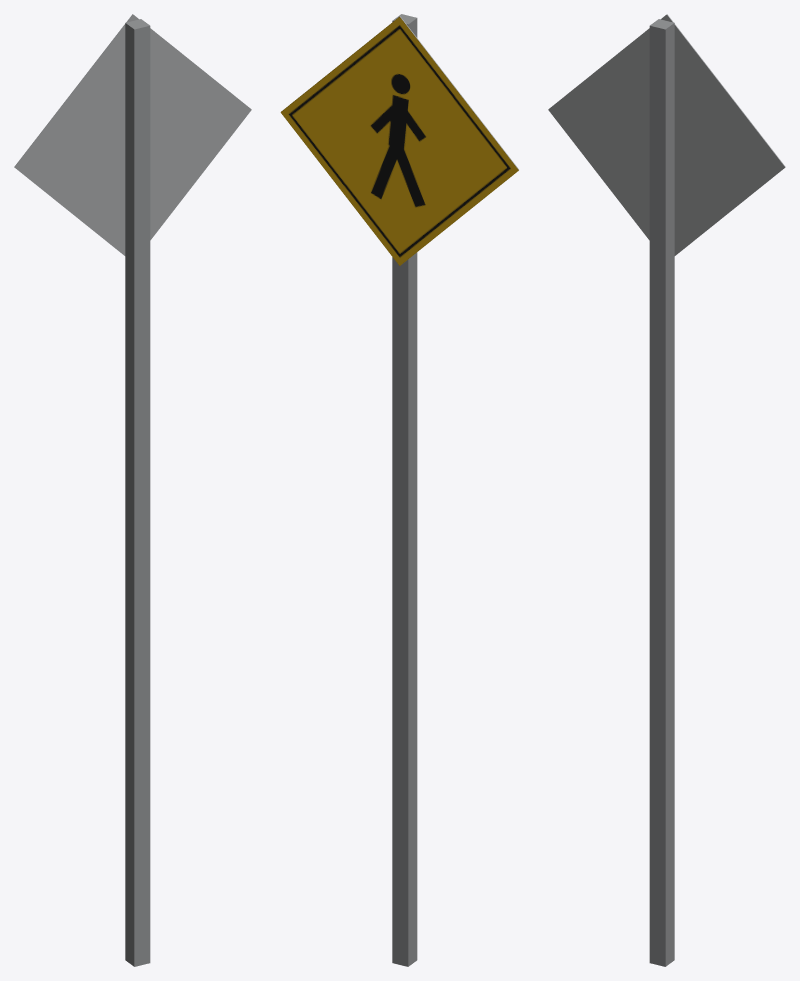
Rendered from sign_w11-2_pedestrian.glb.
3 views of the same model, side by side, from view 1: azimuth 30°, elevation 25°; view 2: azimuth 150°, elevation 25°; view 3: azimuth 330°, elevation 25° (orthographic).
Visible parts, largest first — view 1: sign_w11-2_pedestrian; view 2: sign_w11-2_pedestrian; view 3: sign_w11-2_pedestrian.
Boxes of the visible parts, x1,y1,x2,y2 form: sign_w11-2_pedestrian: [14, 14, 251, 966]; sign_w11-2_pedestrian: [280, 14, 518, 966]; sign_w11-2_pedestrian: [548, 14, 785, 966].
Size of the model in its own units: 0.762 by 2.9 by 0.0538.
3 materials, 1 textured.
